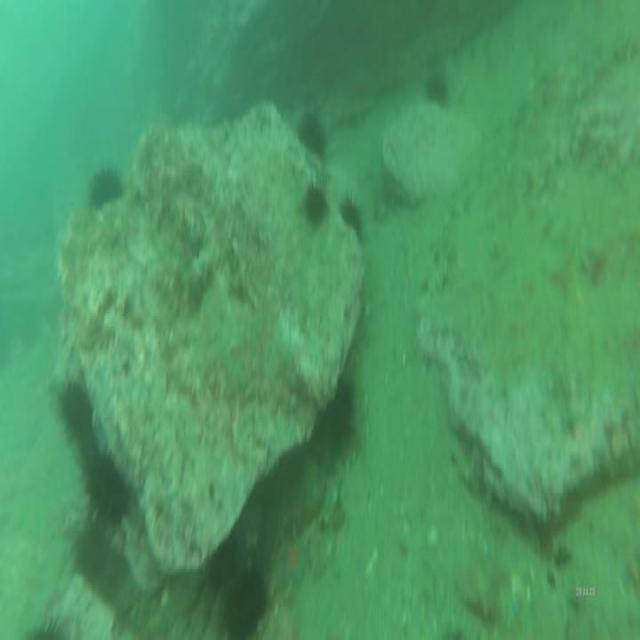echinus: (79, 447, 133, 525), (315, 378, 357, 476), (220, 562, 269, 640), (50, 379, 98, 457), (84, 162, 125, 214), (297, 175, 331, 231), (294, 109, 331, 160), (338, 190, 367, 240)
starfish: (277, 536, 313, 591)
